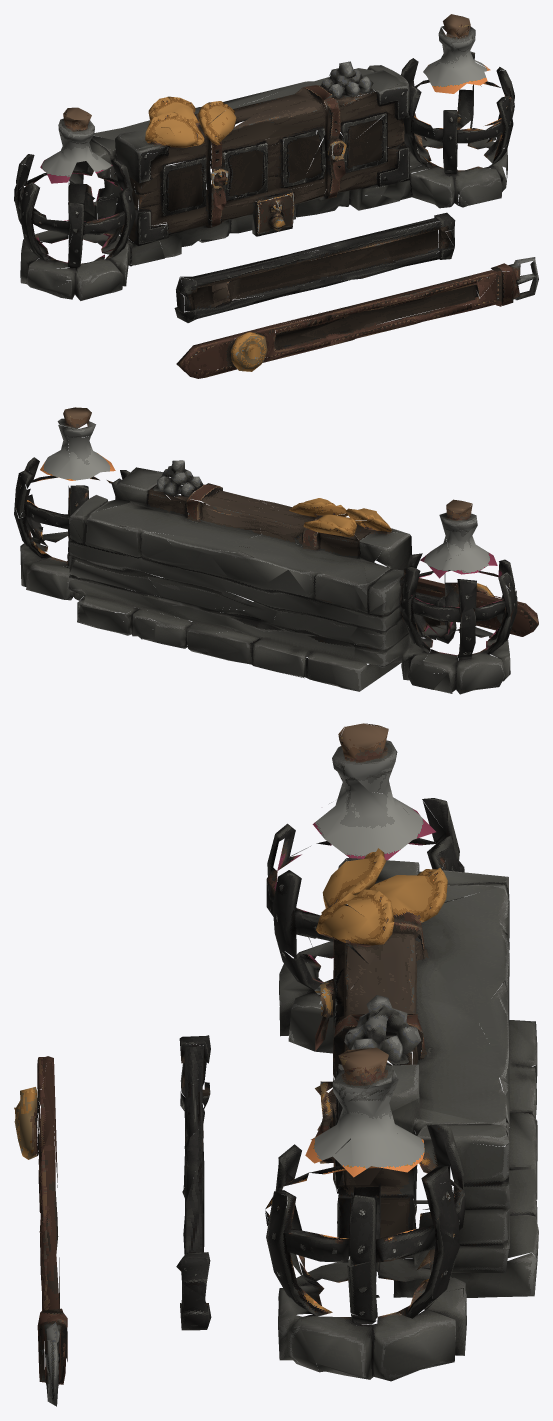
The model's file is hud_cabral.glb.
3 views of the same model, one above another, from view 1: azimuth 30°, elevation 25°; view 2: azimuth 150°, elevation 25°; view 3: azimuth 270°, elevation 25° (orthographic). The views are drawn at different scales.
Parts seen in each view (by area): view 1: tripo_node_6f1dac14-2b81-4a30-9206-75811f3b9396; view 2: tripo_node_6f1dac14-2b81-4a30-9206-75811f3b9396; view 3: tripo_node_6f1dac14-2b81-4a30-9206-75811f3b9396.
Boxes of the visible parts, x1,y1,x2,y2 form: tripo_node_6f1dac14-2b81-4a30-9206-75811f3b9396: [14, 14, 538, 378]; tripo_node_6f1dac14-2b81-4a30-9206-75811f3b9396: [14, 407, 538, 694]; tripo_node_6f1dac14-2b81-4a30-9206-75811f3b9396: [14, 723, 538, 1406].
Size of the model in its own units: 2.46 by 0.9983 by 1.31.
1 material, 1 textured.
